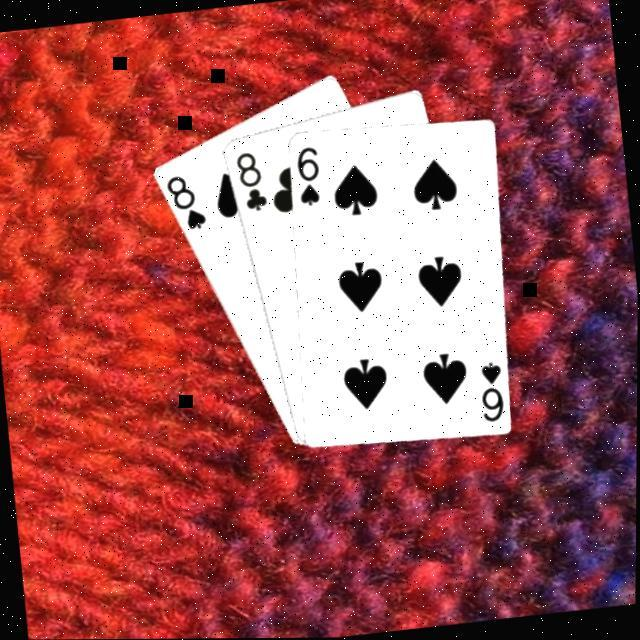6S: (289, 144, 324, 212), (472, 360, 506, 427)
8C: (230, 148, 268, 218)
8S: (160, 172, 208, 238)
